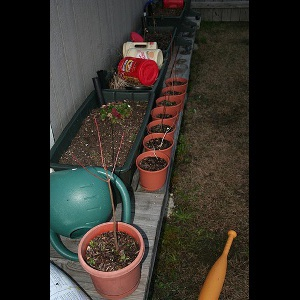flowerpot: (80, 220, 148, 300), (134, 150, 170, 190), (141, 133, 174, 167), (147, 120, 177, 147), (149, 106, 179, 129), (157, 96, 182, 118), (163, 86, 186, 106), (166, 78, 188, 93)
